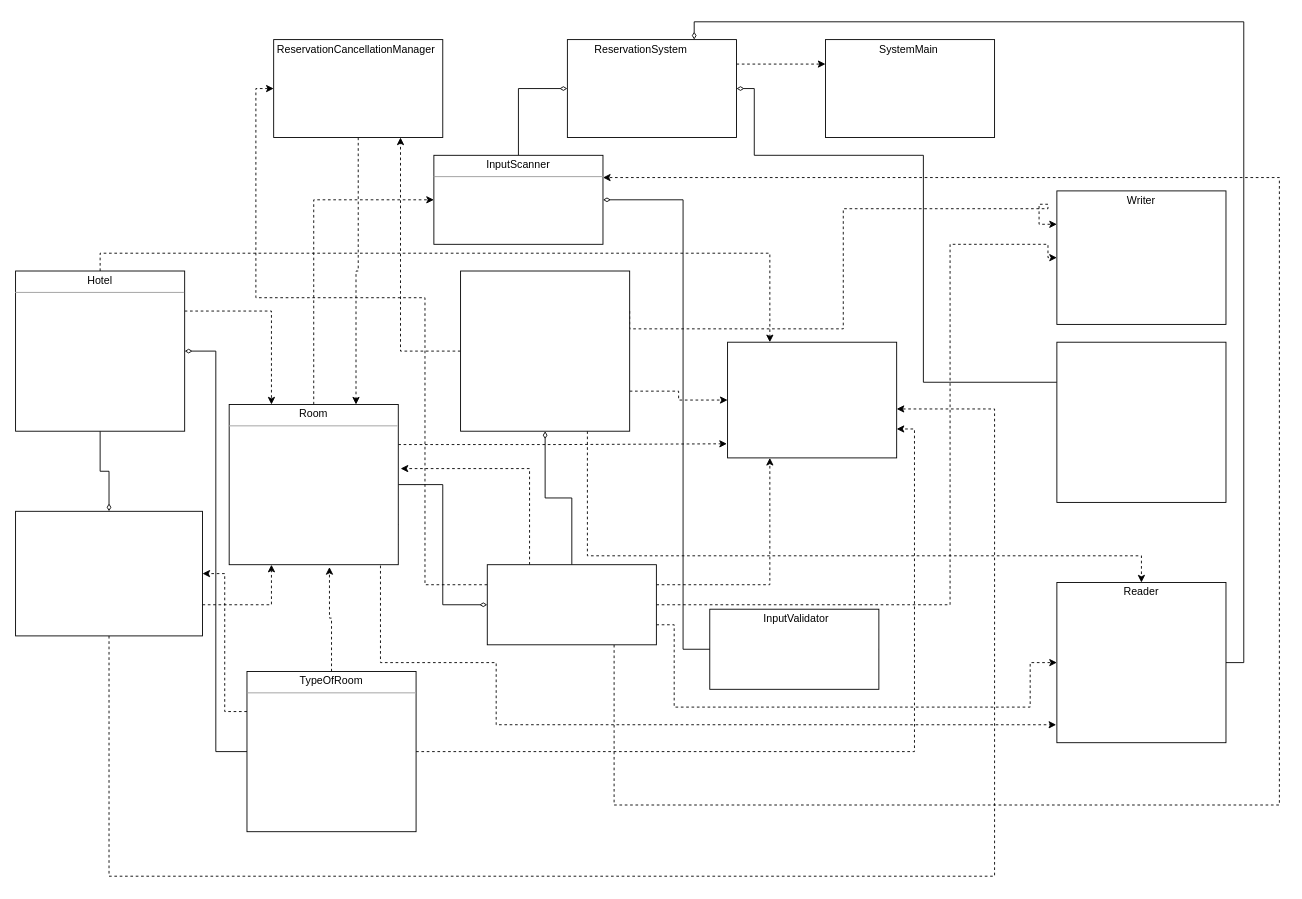
The diagram is 1302 pixels wide and 899 high, and some of its shapes have lost their labels. Here are the shapes that lost their labels. From the top down, the centre of each, then its label:
(545,350): Cancellation
(812,399): DataAnalysis
(1141,421): PrintedMenus
(108,573): HotelInitialiser
(571,604): Reservation
